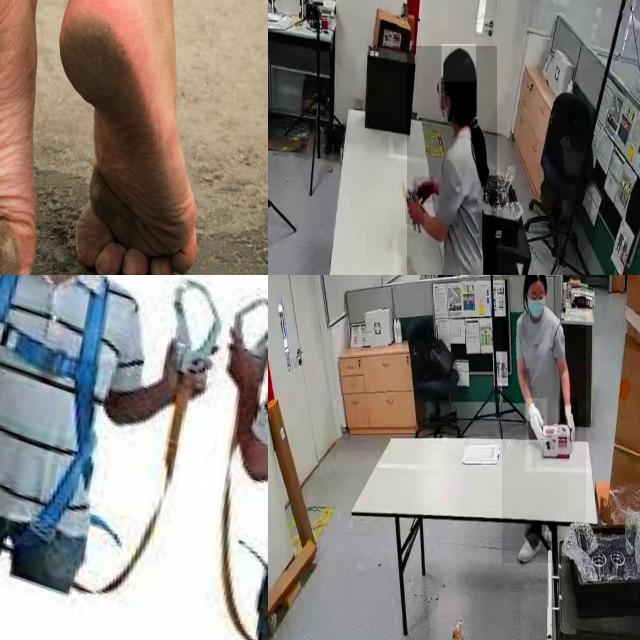Barefoots: (59, 0, 197, 275)
Harness: (0, 275, 113, 540)
face_mask: (524, 291, 548, 325)
hand_glove: (526, 398, 548, 442), (558, 398, 578, 442)
hand_noglove: (405, 192, 425, 226), (414, 177, 434, 204)
head_nohelmet: (442, 44, 476, 82), (526, 275, 546, 282)
person: (501, 275, 586, 564), (406, 46, 497, 275)
shoes: (515, 531, 543, 563)
